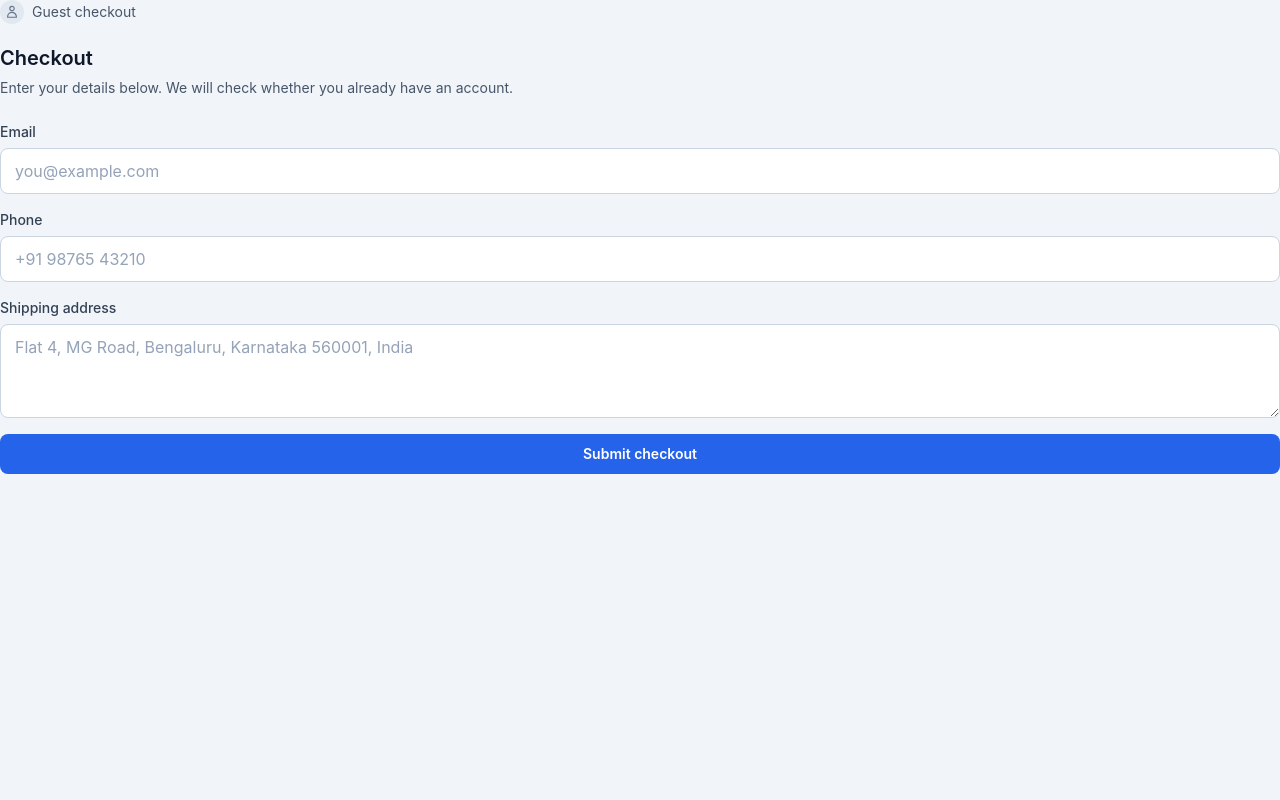
CheckoutForm › opens the OTP modal for a registered email
The width and height of the screenshot is (1280, 800).
Type "vijay@example.com" into the field labelled "Email" at (640, 171), box [0, 148, 1279, 194]
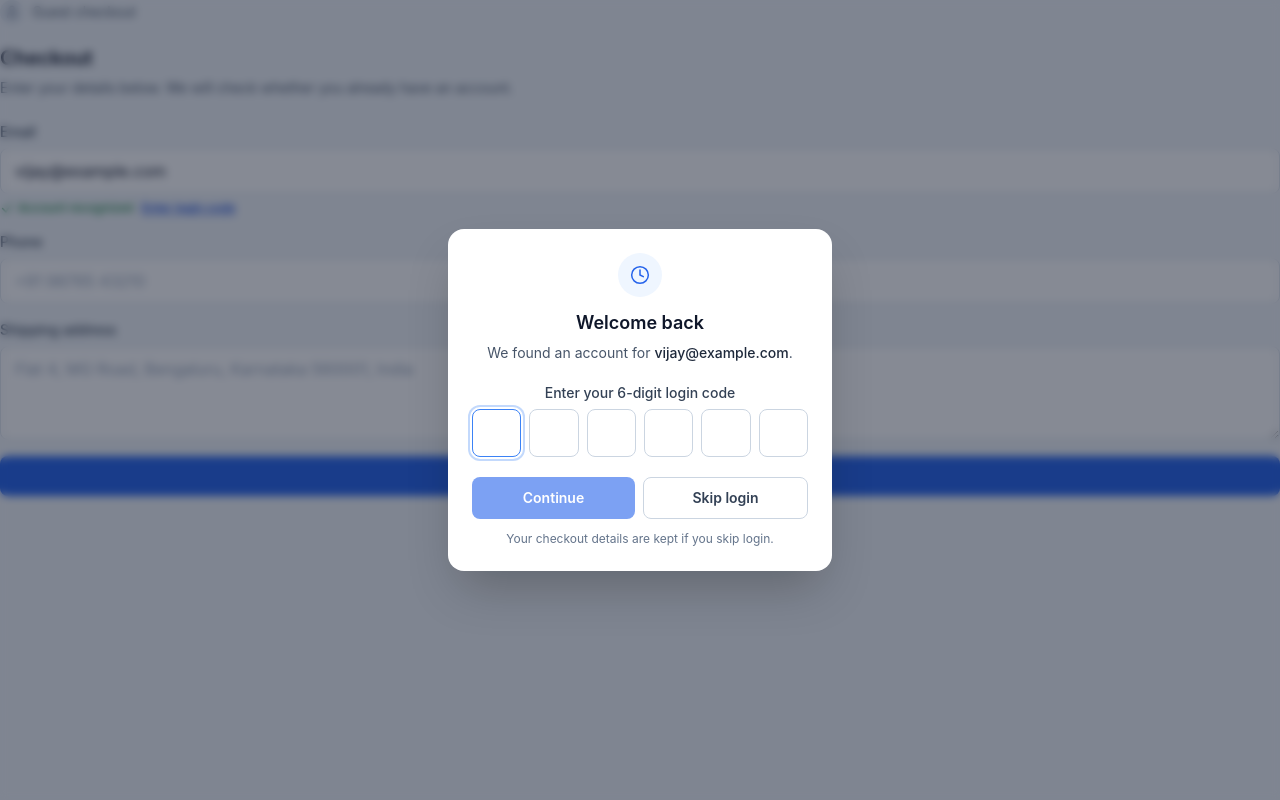
Expected: the dialog is shown, [448, 229, 832, 571]
Expected: the heading "Welcome back" is shown, [576, 312, 704, 333]
Expected: the button "Skip login" is shown, [643, 477, 808, 519]
